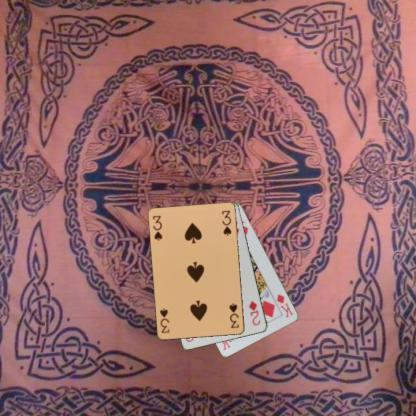2d: (246, 299, 262, 326)
3s: (226, 300, 240, 330), (150, 213, 164, 242)
Kd: (274, 292, 294, 319)
